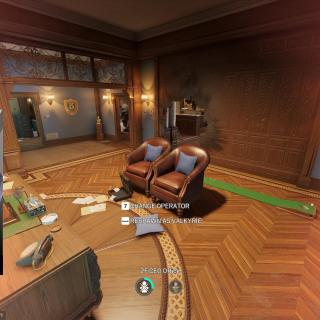Character: (120, 107, 129, 129)
Head: (120, 108, 124, 111)
